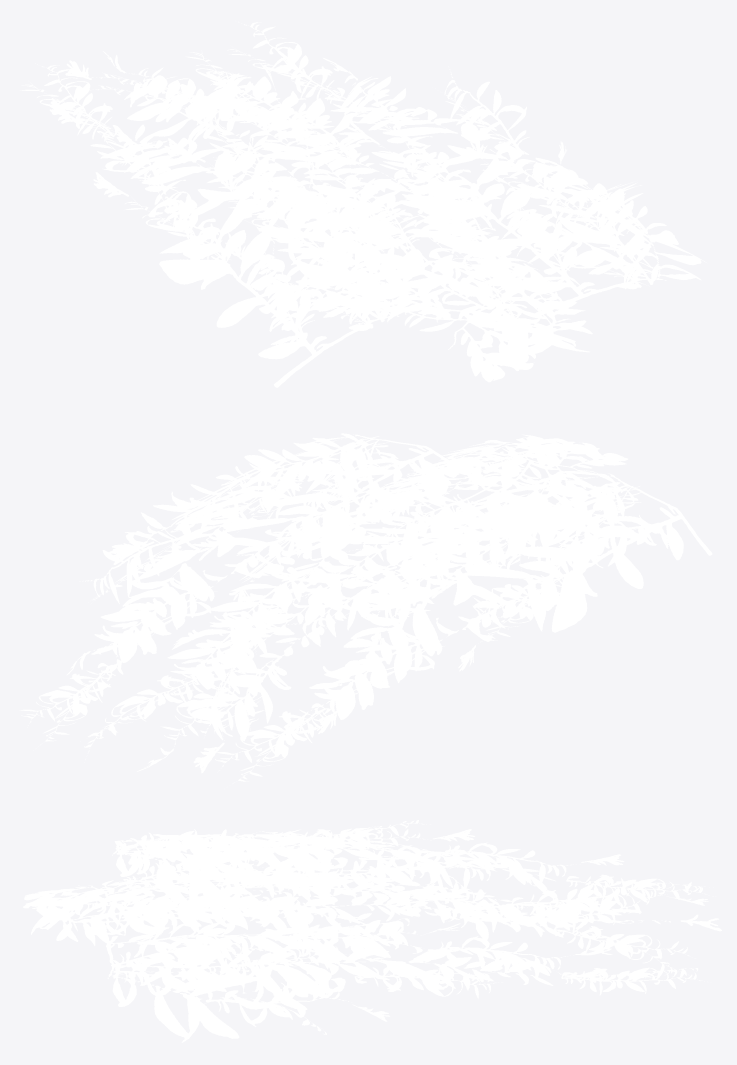
3 views of the same model, one above another, from view 1: azimuth 30°, elevation 25°; view 2: azimuth 150°, elevation 25°; view 3: azimuth 270°, elevation 25° (orthographic). The views are drawn at different scales.
Visible parts, largest first — view 1: SM_GF_Climbing_A_01_LOD0; view 2: SM_GF_Climbing_A_01_LOD0; view 3: SM_GF_Climbing_A_01_LOD0.
Boxes of the visible parts, x1,y1,x2,y2 form: SM_GF_Climbing_A_01_LOD0: (20,21,706,387); SM_GF_Climbing_A_01_LOD0: (19,433,712,783); SM_GF_Climbing_A_01_LOD0: (23,820,721,1042).
Size of the model in its own units: 2.19 by 0.461 by 3.5.
Materials: 1 (1 with a texture image).
